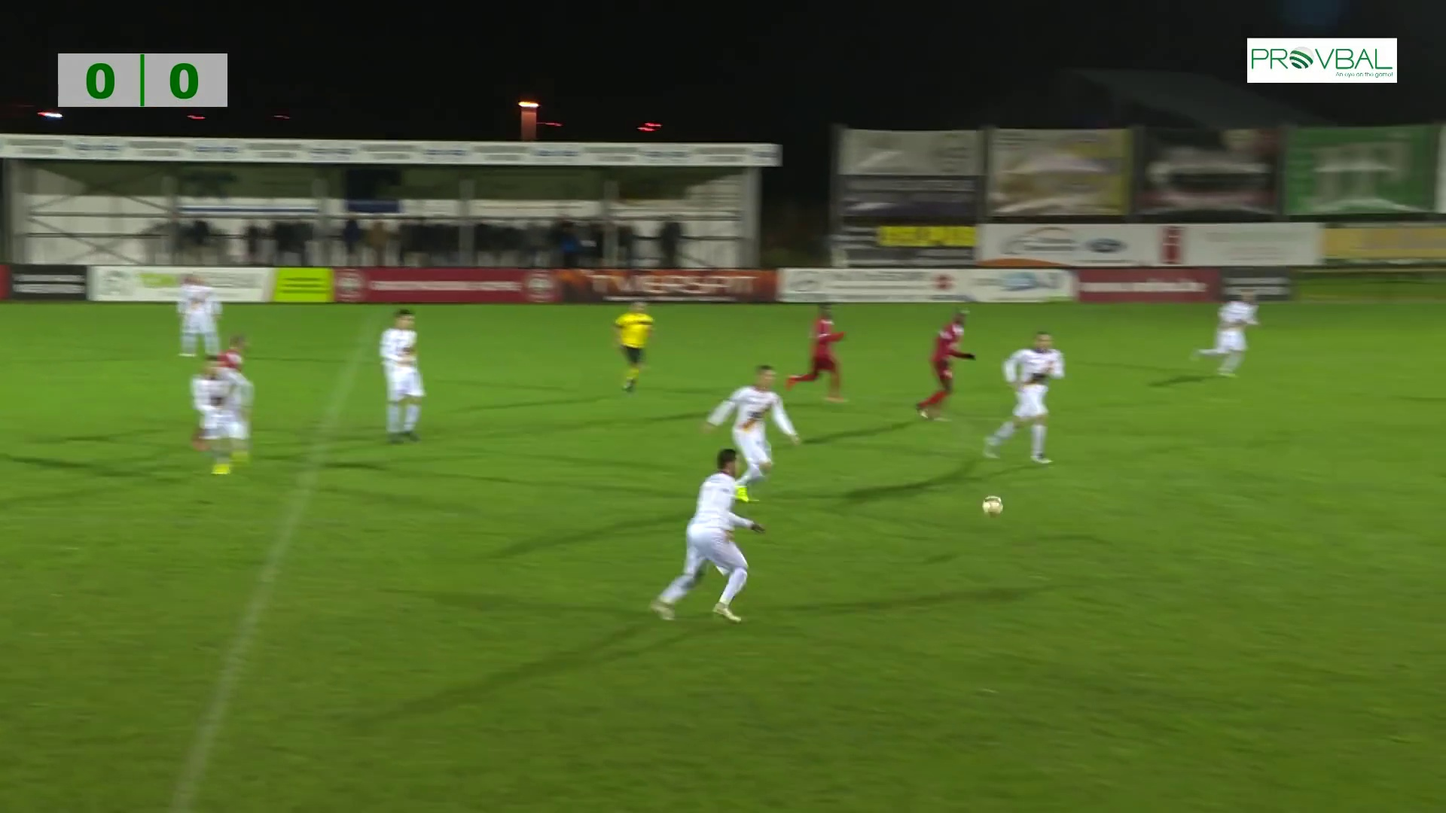red_team: (915, 295, 976, 425), (791, 297, 848, 411), (201, 329, 271, 372)
referee: (608, 298, 659, 392)
white_team: (655, 449, 757, 628), (704, 361, 794, 494), (998, 329, 1069, 475), (374, 303, 438, 442), (193, 361, 264, 476), (1191, 286, 1265, 381), (178, 270, 222, 365)
